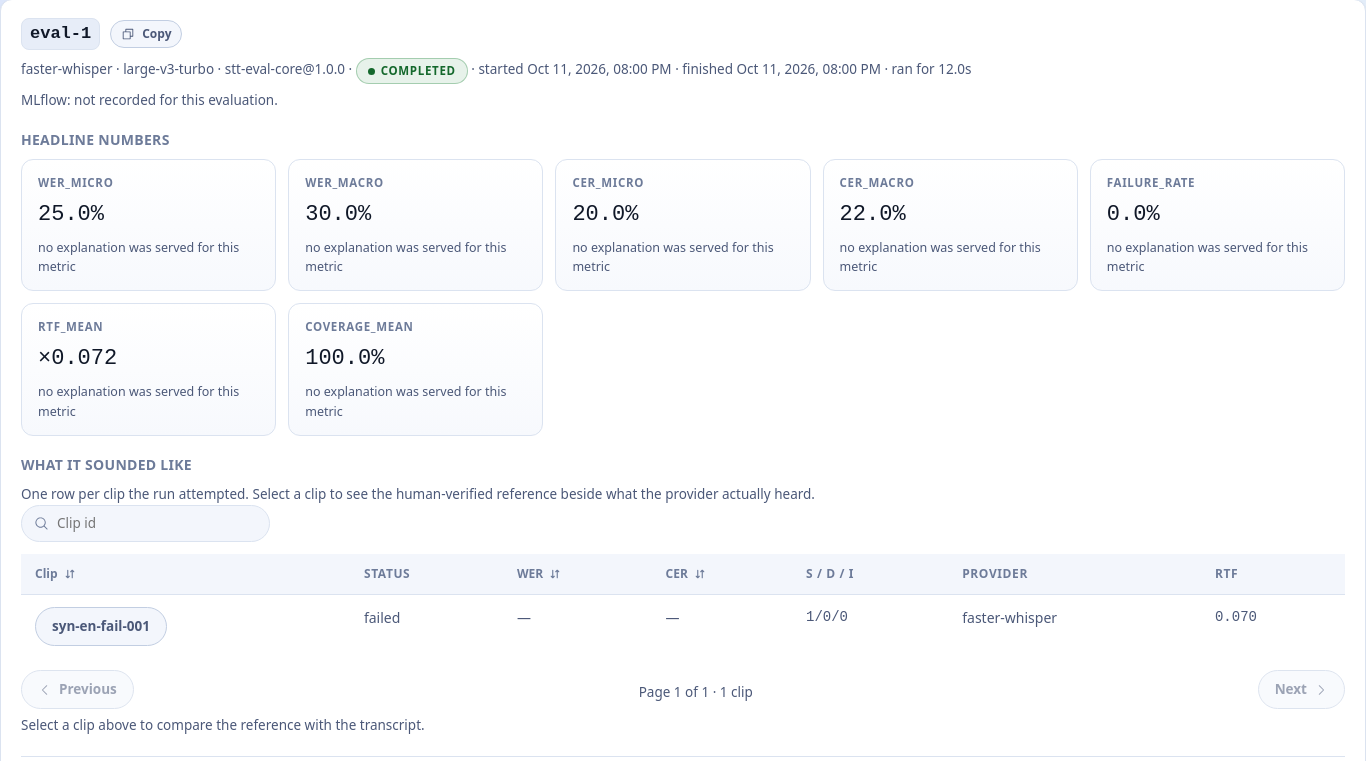
Test case: EvaluationRunDetail › a clip that produced no transcript says so instead of faking a diff
Click the button "syn-en-fail-001": (101, 627) [35,607,167,646]
(page scrolled)
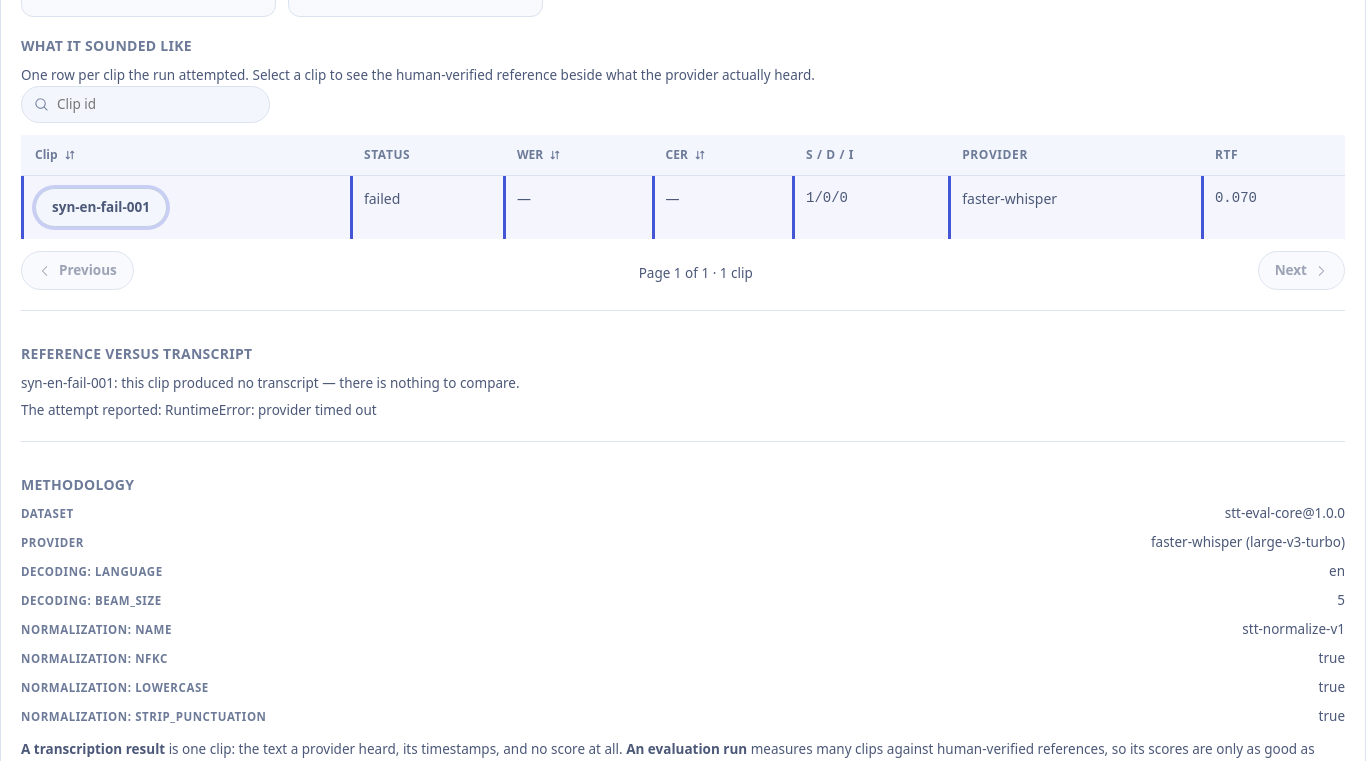
Result: the text with test id "no-transcript-note" shows "produced no transcript" at [114,374,520,392]
Result: the text with test id "no-transcript-note" shows "nothing to compare" at [114,374,520,392]
